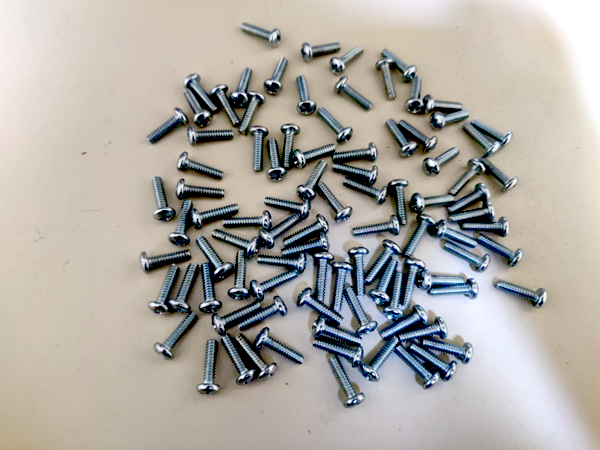shortscrew: (154, 311, 198, 361), (394, 345, 442, 390), (234, 334, 277, 383), (254, 328, 305, 367), (409, 343, 458, 383), (330, 356, 365, 409), (297, 288, 344, 327), (211, 302, 264, 336), (222, 335, 257, 386), (237, 296, 288, 331), (379, 305, 429, 340), (362, 336, 399, 383), (148, 264, 181, 316), (364, 240, 402, 284), (344, 287, 378, 336), (476, 234, 524, 268), (146, 107, 189, 144), (313, 316, 362, 348), (169, 263, 199, 315), (183, 73, 220, 115), (317, 182, 354, 224), (495, 280, 548, 309), (313, 338, 364, 368), (443, 242, 492, 273), (284, 214, 330, 247), (258, 214, 300, 250), (211, 229, 260, 259), (463, 122, 502, 159), (404, 214, 436, 258), (449, 159, 486, 197), (177, 151, 225, 180), (317, 108, 354, 145), (480, 158, 519, 193), (297, 160, 328, 204), (333, 77, 373, 111), (197, 340, 221, 396), (343, 177, 389, 206), (398, 120, 438, 153), (448, 184, 490, 215), (210, 84, 241, 126), (423, 338, 473, 364), (169, 199, 196, 247), (435, 220, 478, 250), (370, 258, 398, 304), (386, 118, 418, 158), (140, 250, 191, 275), (471, 118, 513, 148), (190, 202, 240, 227), (398, 317, 449, 341), (238, 91, 266, 134), (183, 88, 213, 128), (227, 251, 251, 300), (199, 263, 222, 314), (282, 232, 330, 256), (222, 210, 272, 233), (423, 147, 461, 177), (176, 178, 225, 201), (382, 50, 417, 82), (241, 22, 282, 49), (348, 247, 370, 296), (293, 145, 336, 170), (332, 262, 353, 313), (333, 163, 379, 186), (153, 177, 176, 223), (383, 273, 405, 321), (429, 279, 479, 300), (314, 253, 335, 303), (264, 197, 311, 219), (330, 45, 363, 76), (188, 125, 234, 147), (353, 216, 401, 237), (462, 217, 510, 238), (264, 58, 289, 97), (411, 193, 455, 215), (333, 142, 378, 163), (418, 271, 465, 291), (230, 68, 254, 107), (389, 180, 409, 226), (450, 203, 496, 223), (376, 58, 397, 101), (266, 139, 287, 182), (430, 110, 470, 132), (296, 75, 317, 116), (302, 41, 341, 63), (282, 124, 301, 169), (251, 125, 269, 172), (425, 94, 463, 115), (405, 76, 424, 115)
